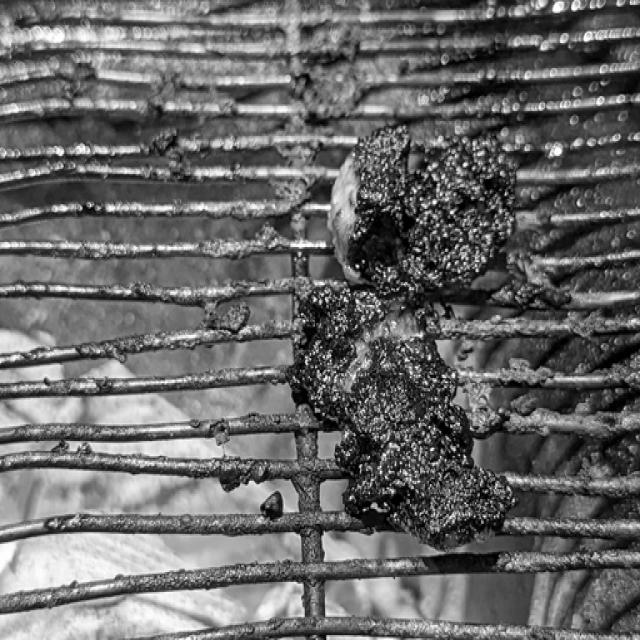overcooked beef,: (281, 269, 540, 567), (318, 120, 598, 324)
